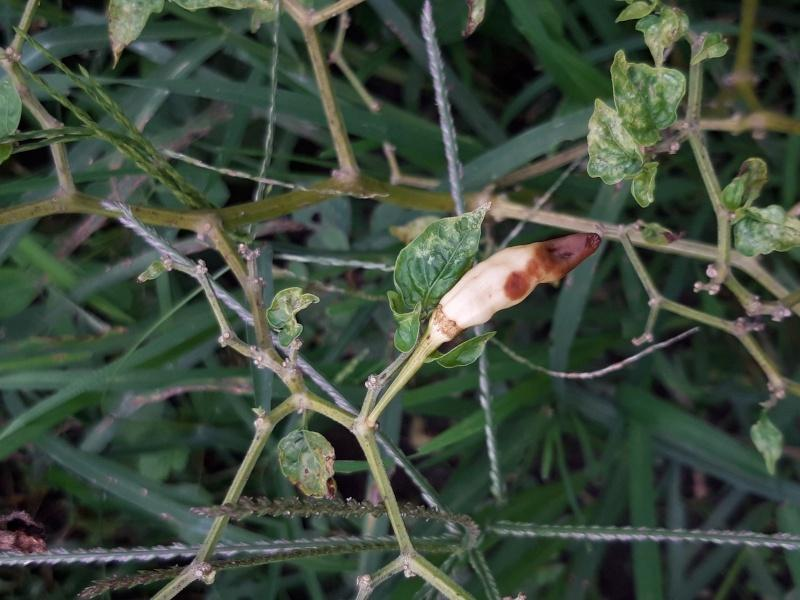antraknosa: (438, 232, 602, 330)
